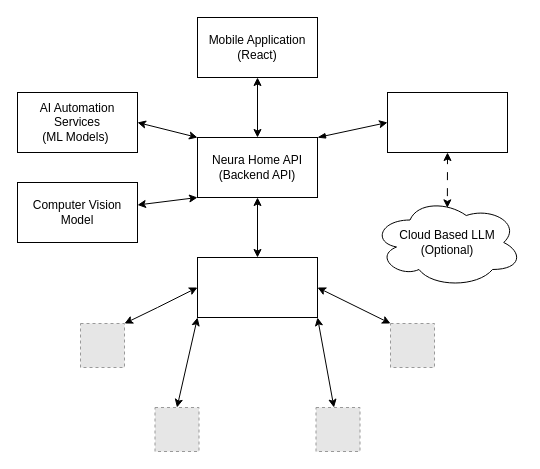
Image size: 540x469. Some labels were removed from this diagram. Grey dashed boxes stand in for pictures. The shapes that lost their labels are listed below. From the top down, each one's box as (x1, y1, x2, y2) in pixels, then its label:
(386, 92, 508, 152): Voice Assistant Module
(196, 256, 318, 318): Home Assistant Intergration
